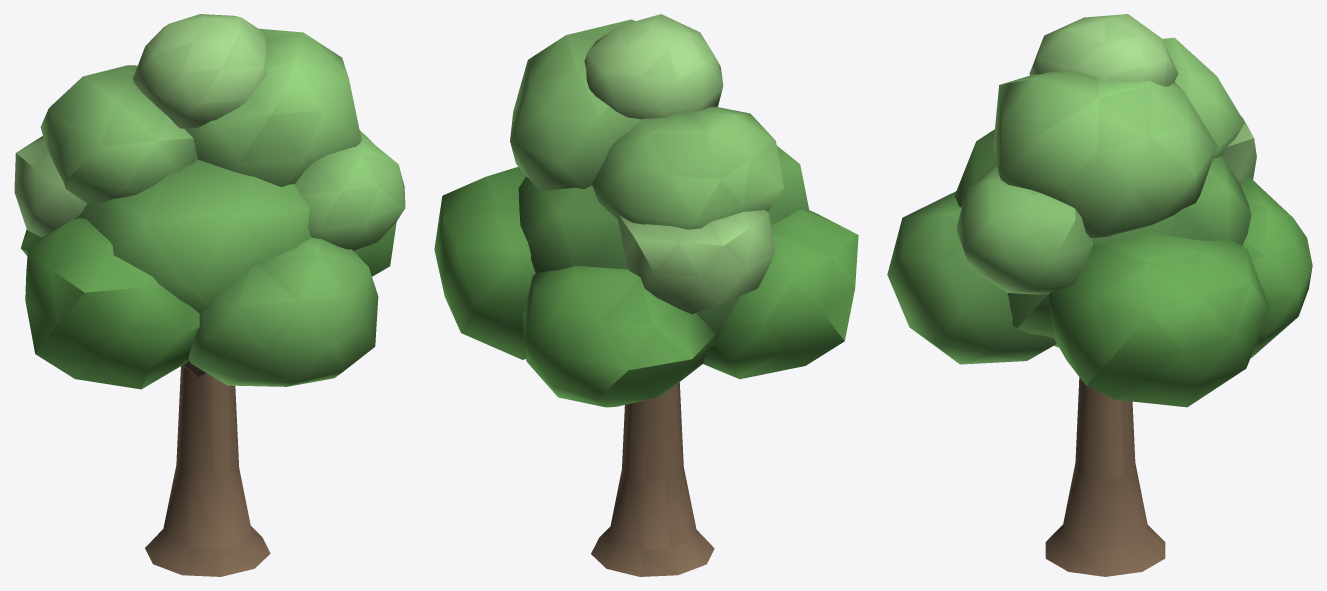
Rendered from tree.glb.
3 views of the same model, side by side, from view 1: azimuth 30°, elevation 25°; view 2: azimuth 150°, elevation 25°; view 3: azimuth 270°, elevation 25° (orthographic).
Visible parts, largest first — view 1: main; view 2: main; view 3: main.
Boxes of the visible parts, bbox=[...] form: main: bbox=[14, 14, 405, 576]; main: bbox=[434, 14, 858, 576]; main: bbox=[887, 14, 1312, 576].
Bounding box in the file's own units: 1.17 × 1.62 × 1.15.
